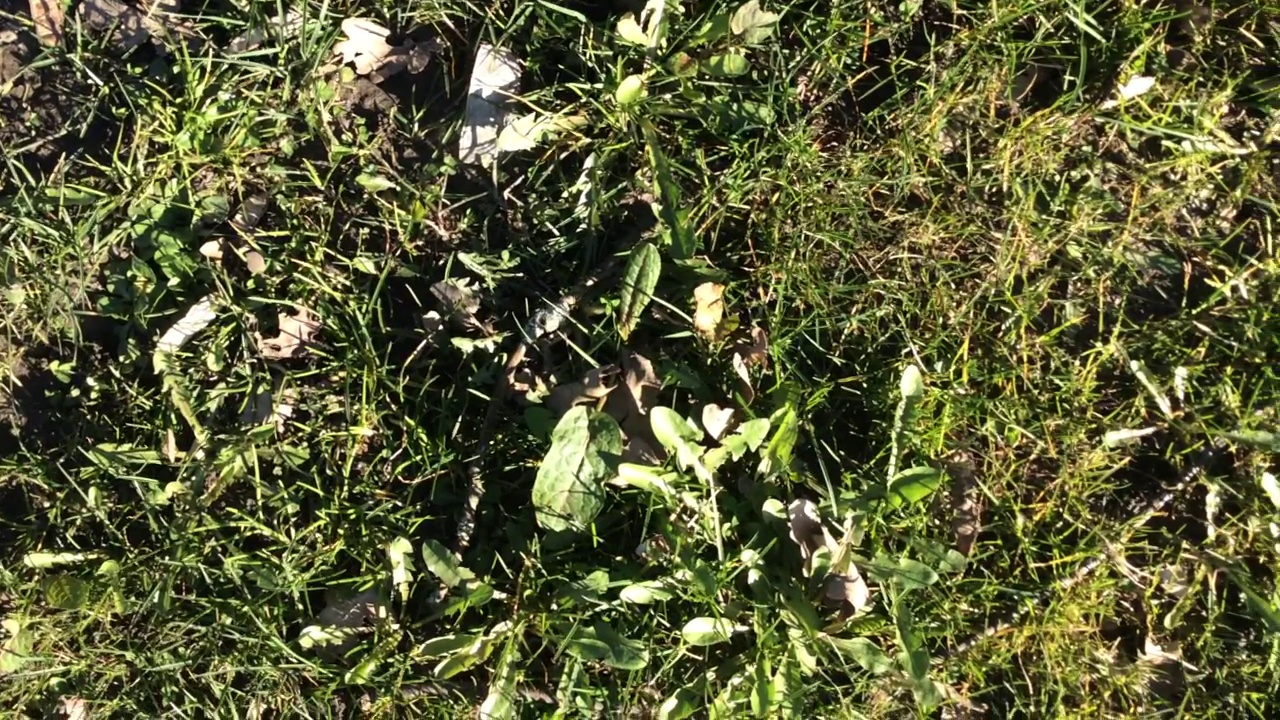rumex: (536, 404, 621, 551), (622, 242, 661, 337)
